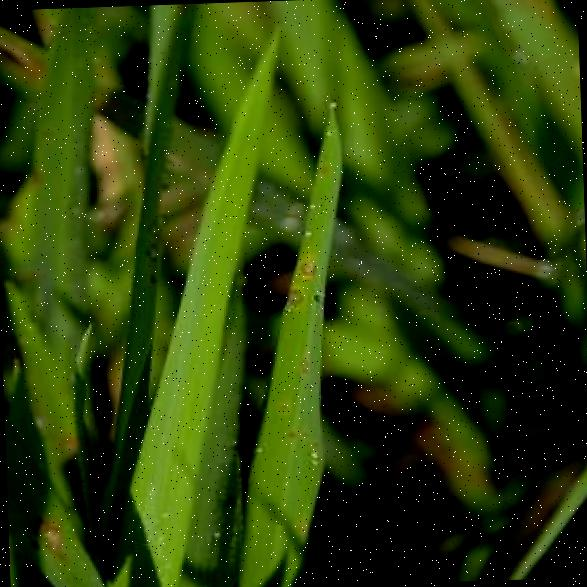Leaf_smut: (260, 276, 312, 328), (286, 232, 338, 284)
